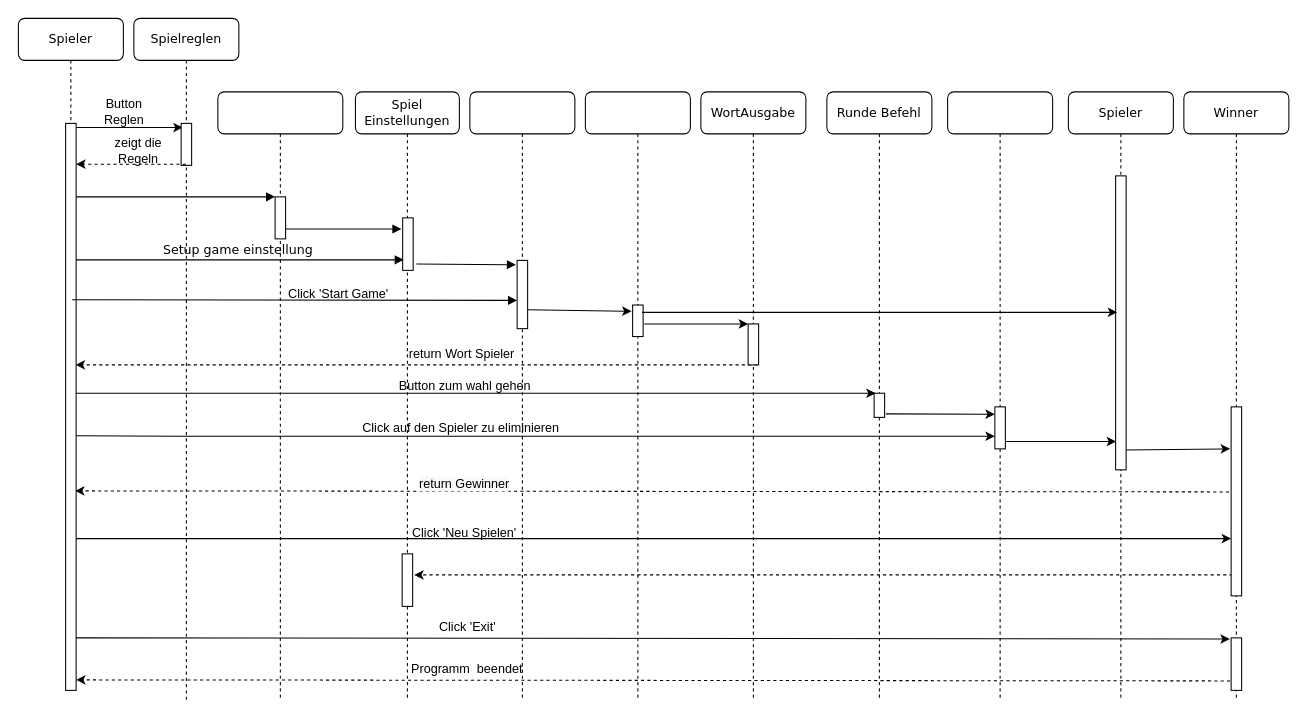
Image size: 1307x719. Some labels were removed from this diagram. Each missing label, with the box of its shape:
Einstellungen: (217, 91, 343, 701)
GameStart: (469, 91, 575, 701)
Rolle Zuweisung: (584, 91, 690, 701)
Wahl: (947, 91, 1053, 701)
